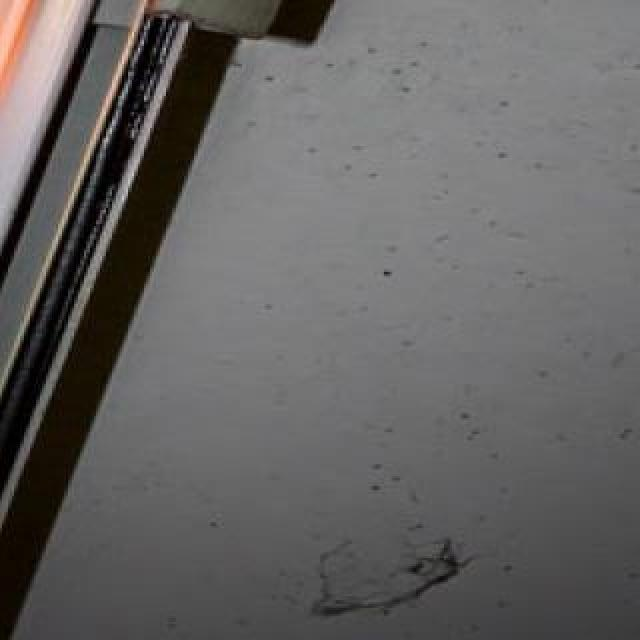fluorescent tube: (0, 0, 58, 640)
